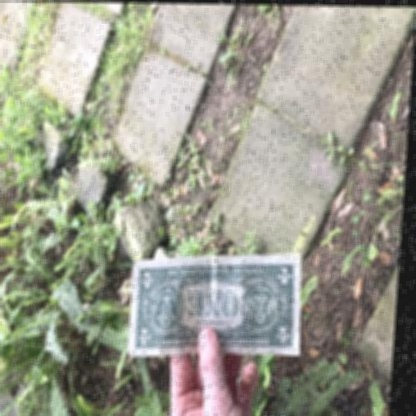one-back: (124, 254, 308, 364)
